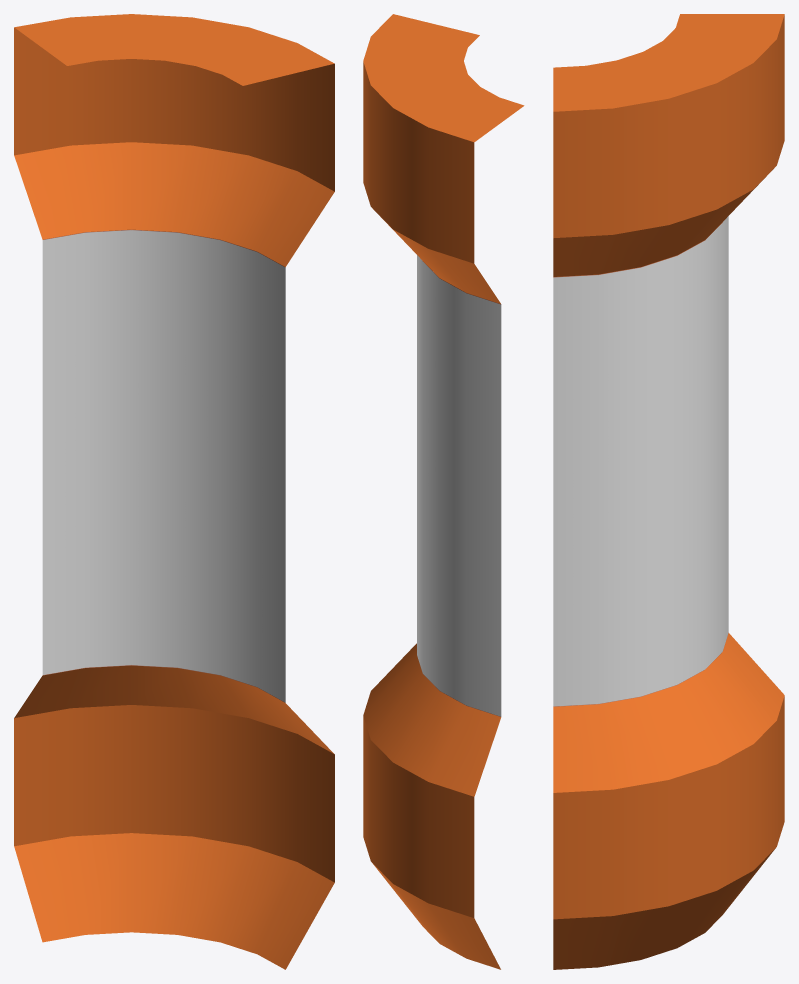
The model's file is small_corner.fbx.
3 views of the same model, side by side, from view 1: azimuth 30°, elevation 25°; view 2: azimuth 150°, elevation 25°; view 3: azimuth 270°, elevation 25° (orthographic). The views are drawn at different scales.
Parts seen in each view (by area): view 1: small_corner; view 2: small_corner; view 3: small_corner.
Part boxes in pixels (x1,y1,x2,y2): small_corner: (14, 14, 334, 969); small_corner: (363, 14, 524, 969); small_corner: (553, 14, 784, 969).
Size of the model in its own units: 71.38 by 300 by 71.38.
1 material, 1 textured.
